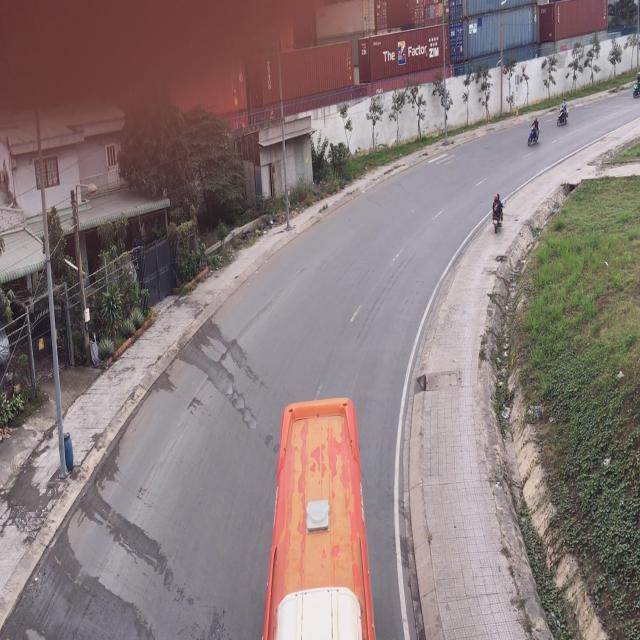bus: (262, 393, 376, 637)
motorbike: (490, 193, 505, 234), (527, 116, 541, 148), (557, 96, 569, 128)
